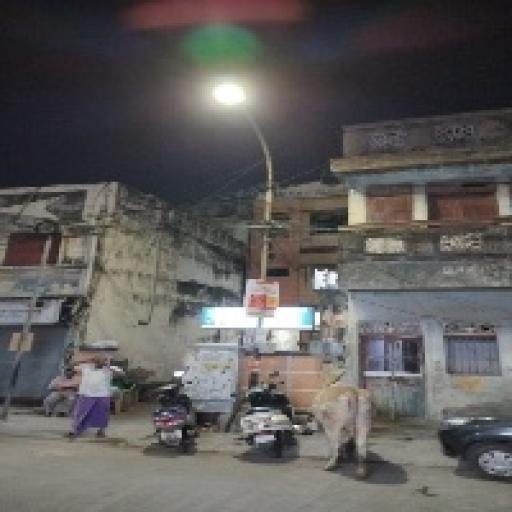Working: (206, 77, 255, 119)
